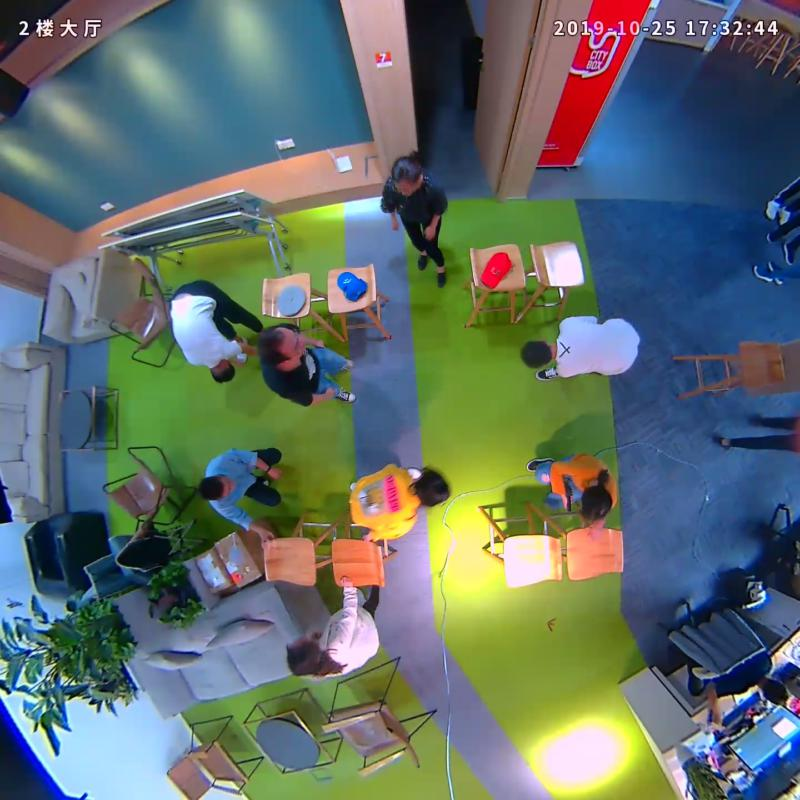head: (252, 322, 312, 370), (279, 632, 329, 681), (400, 464, 453, 508), (571, 480, 619, 528), (385, 150, 427, 198), (512, 333, 556, 372), (195, 355, 241, 390), (195, 471, 236, 505)
